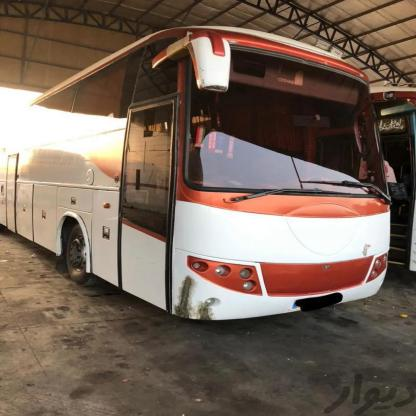Bus: (0, 32, 398, 317)
